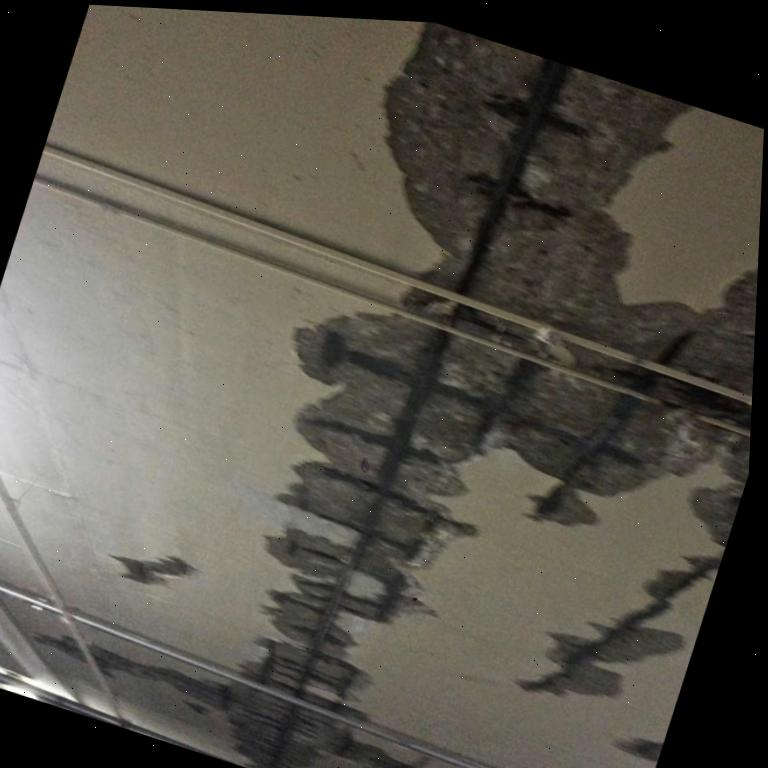exposed_rebar: (300, 329, 451, 690), (456, 58, 584, 295), (456, 59, 569, 296), (535, 396, 640, 526), (657, 329, 696, 366), (538, 202, 554, 209)
spalling: (93, 313, 750, 768), (386, 22, 758, 395), (406, 293, 752, 431), (116, 556, 193, 589), (614, 731, 662, 766)
